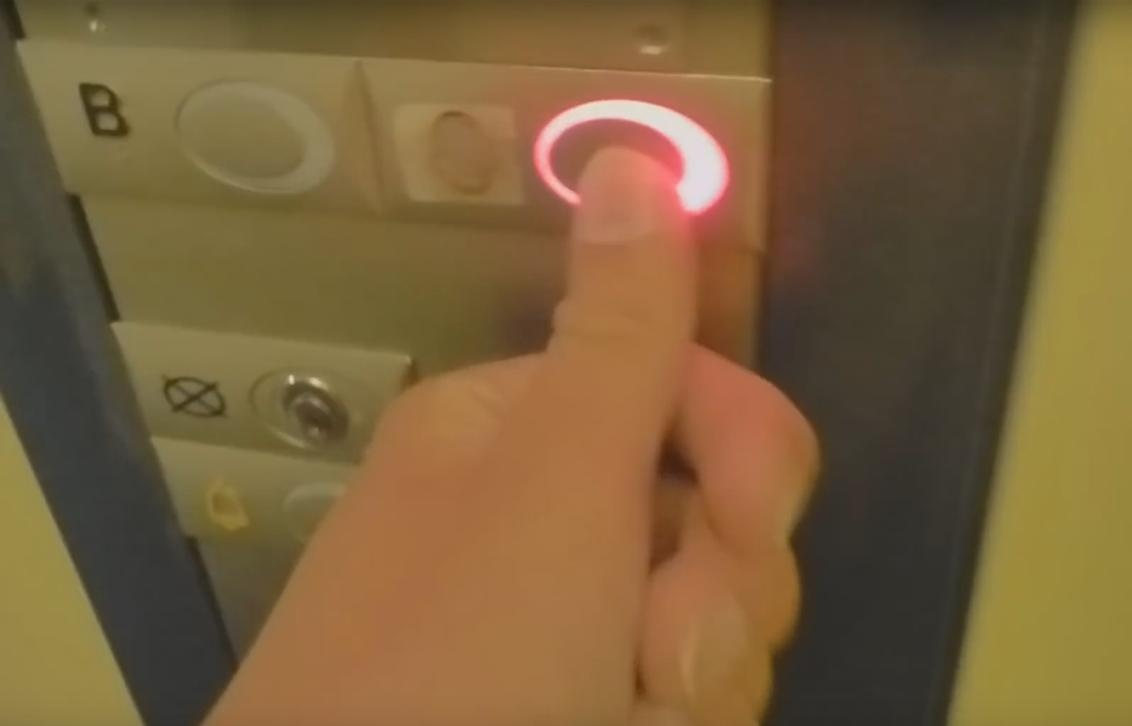B: (10, 35, 387, 221)
alarm: (147, 438, 417, 591)
blur: (352, 55, 775, 257)
stop: (110, 319, 424, 465)
